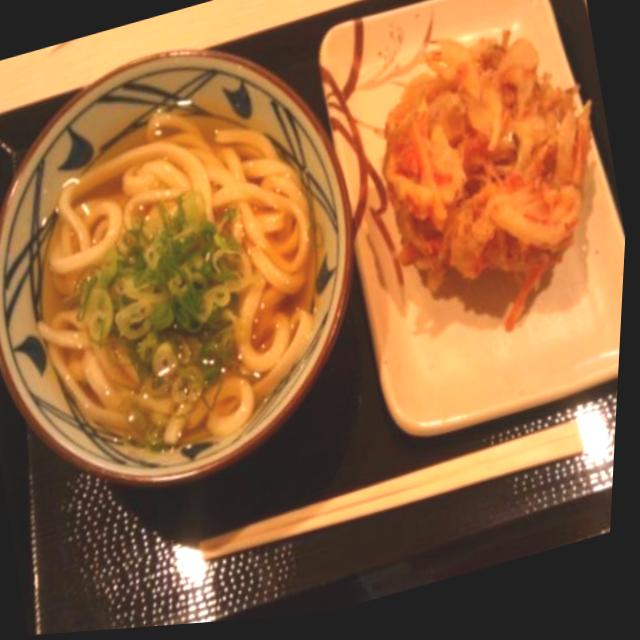蔬菜料理: (293, 0, 640, 462)
面条主食: (0, 5, 407, 534)
